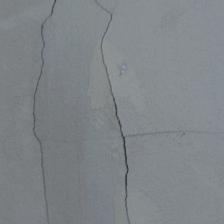Crack: (0, 0, 141, 151), (0, 58, 101, 171)
